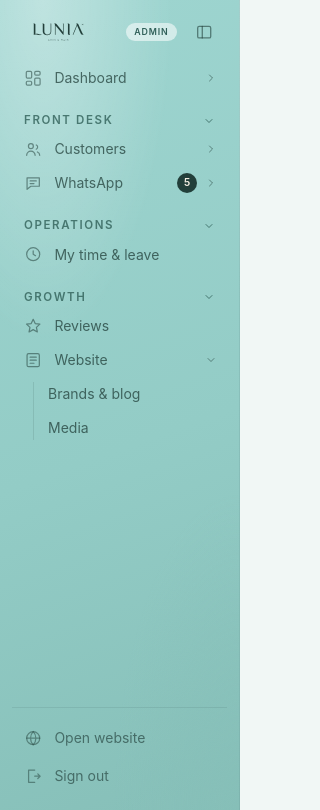
AdminNav › shows open-item badges, and a collapsed parent carries its sub-pages' counts
Expected: the text with test id "nav-badge-/admin/whatsapp" reads "5", [184,176,190,189]
Click the button named "Show: Inquiries, Chat assistant" at (211, 183), box [199,171,223,195]
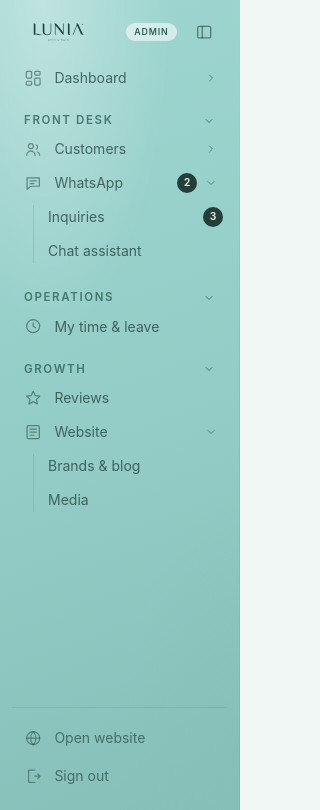
Now the text with test id "nav-badge-/admin/whatsapp" reads "2", box [184,176,190,189]
Now the text with test id "nav-badge-/admin/inquiries" reads "3", box [210,210,216,223]
